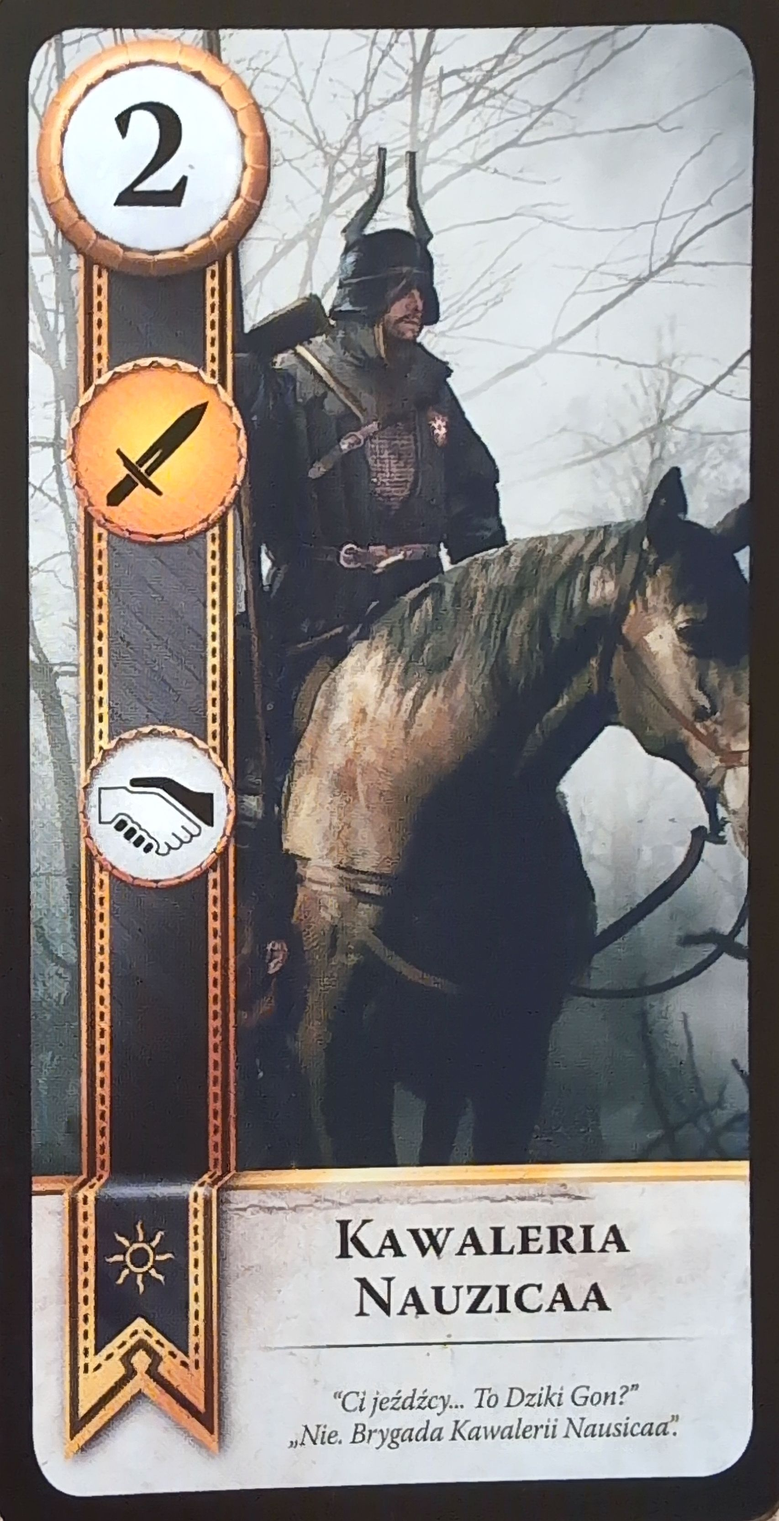2: (36, 40, 276, 274)
miecz: (63, 359, 249, 543)
wiez: (78, 724, 237, 889), (58, 804, 75, 806)
